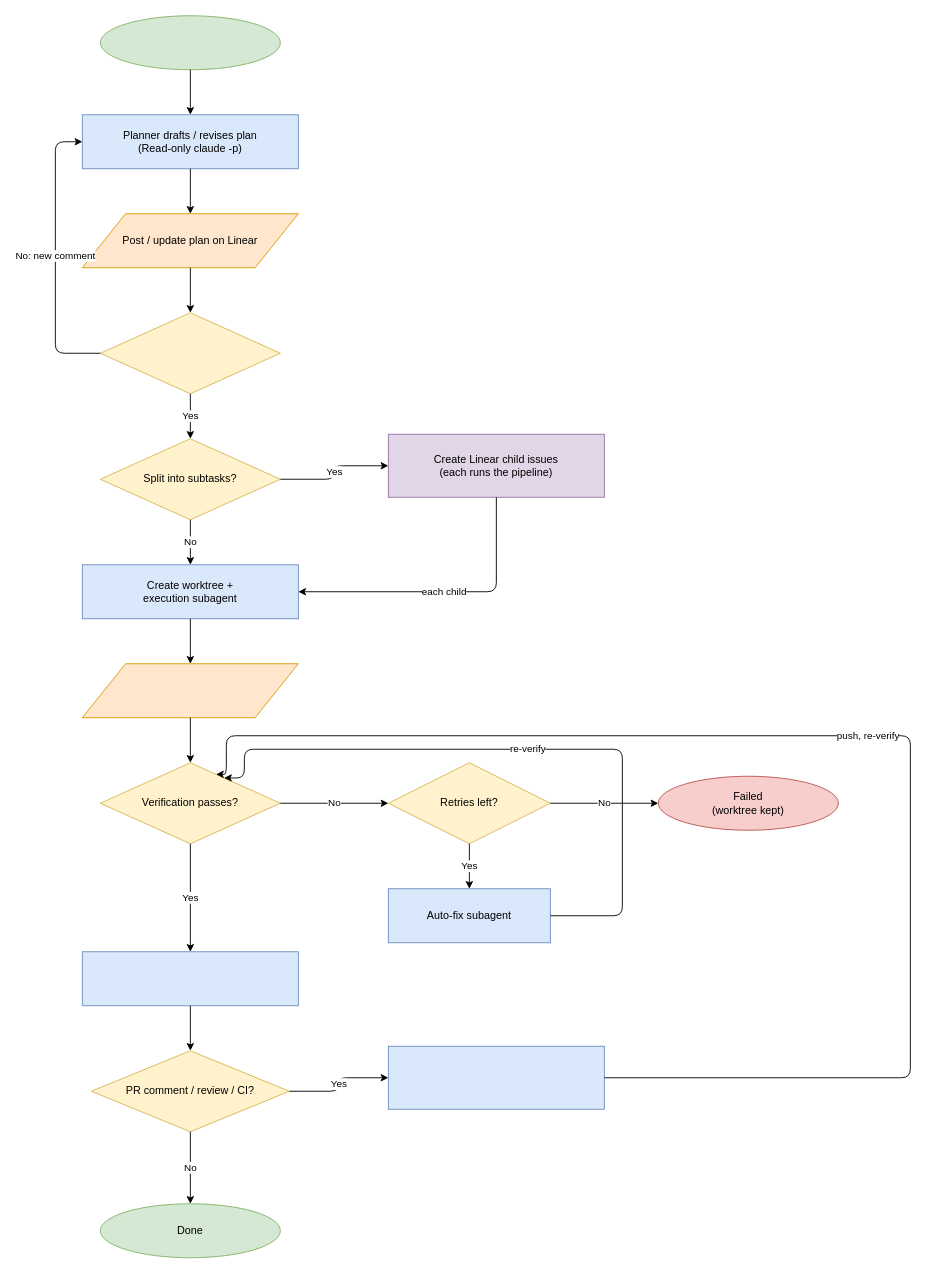
This 933x1274 diagram has some shape labels left out. Each missing label, with the centre of its shape:
"Approved? (agent:approved label)" goes at pixel 189 353.
"Follow-up subagent (resume, push, reply)" goes at pixel 495 1077.
"Linear ticket created" goes at pixel 189 42.
"Mark done + comment on Linear" goes at pixel 189 978.
"Open PR (gh pr create)" goes at pixel 189 690.
